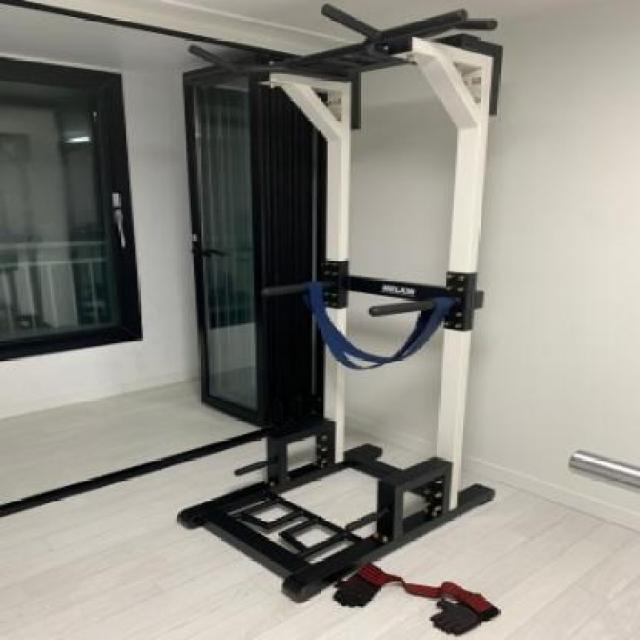chinning dipping: (176, 6, 504, 605)
